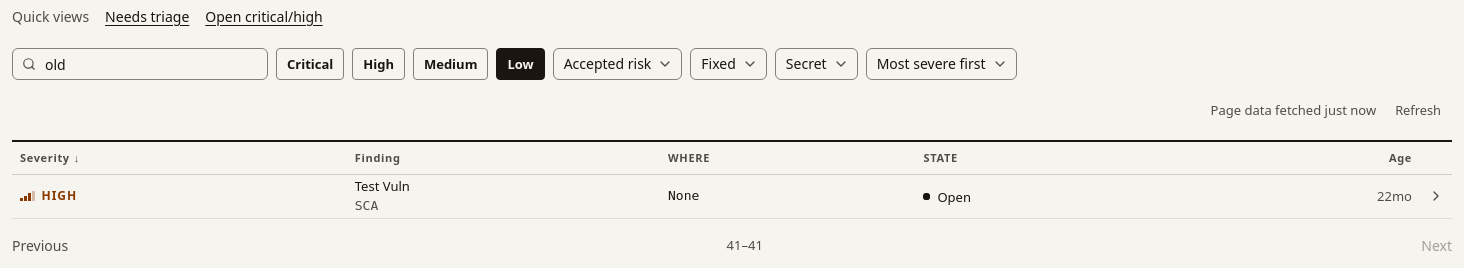
FindingsDashboard › opens the Open critical/high view with one complete request and no old filters or offset
This screenshot has width=1464, height=268.
expect the link "Test Vuln" is shown: met, box [355, 177, 410, 195]
Click the link "Open critical/high": [264, 16] box [205, 6, 323, 26]
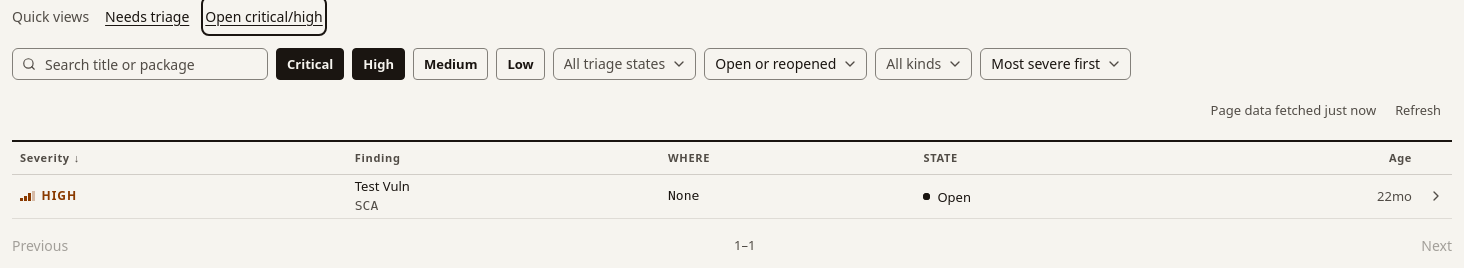
expect the dropdown named "Filter by status" reads "Open or reopened": met, box [704, 48, 867, 80]
